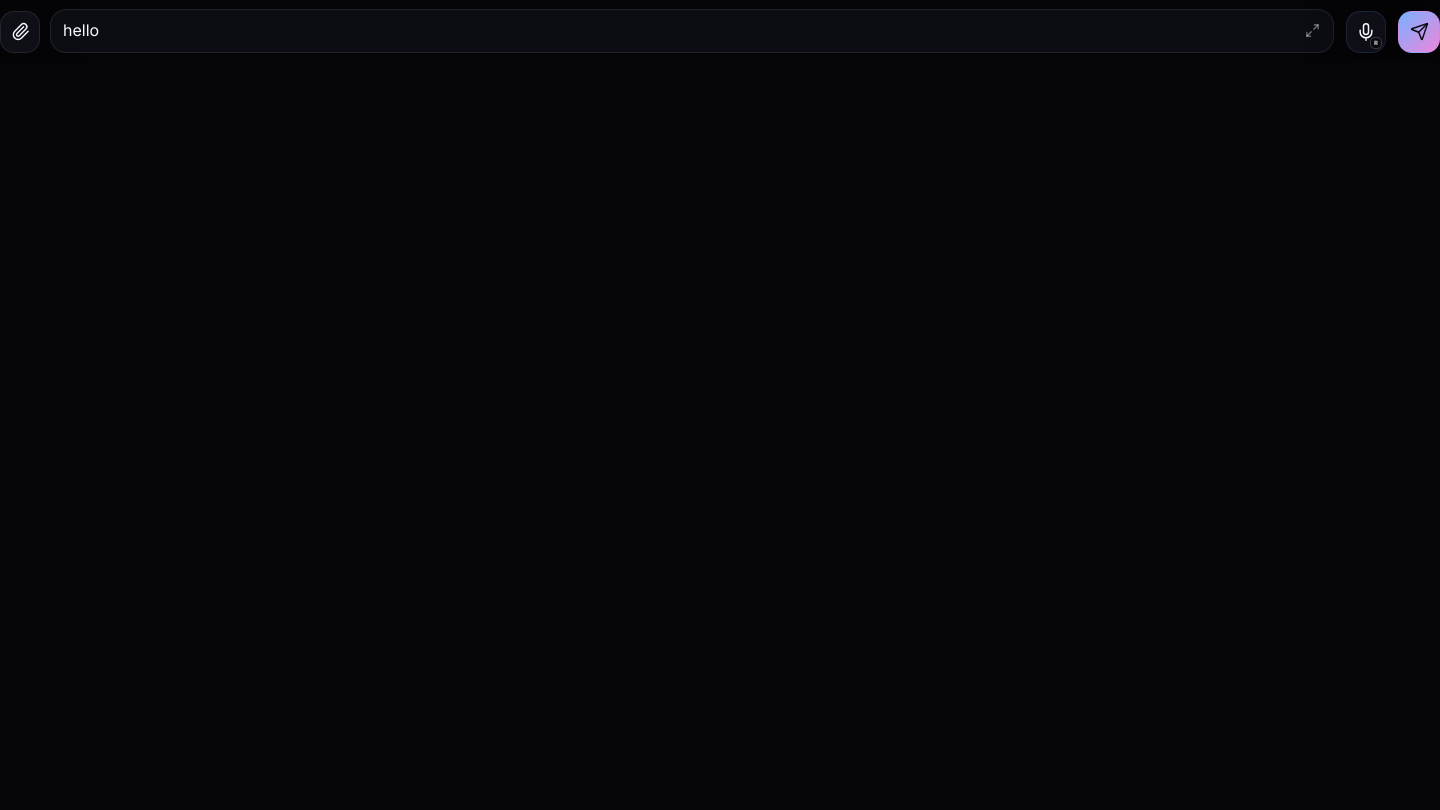
Scenario: Composer secondary tools (paperclip menu) › uses the same combined menu in the expanded composer
Click the button named "Expand message editor". click: {"x": 1312, "y": 31}
box: x1=1298 y1=17 x2=1326 y2=45
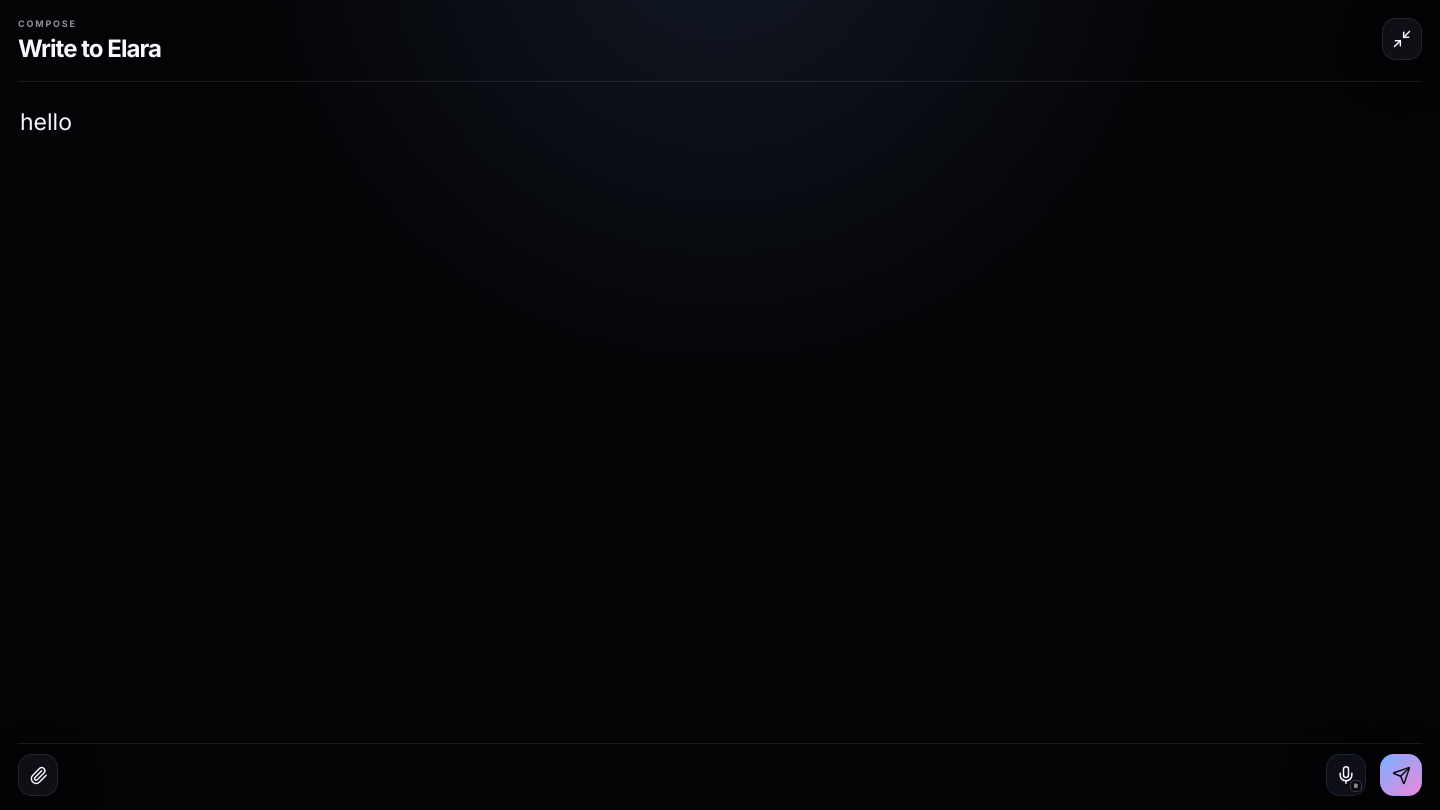
Click the button named "Composer tools". click: {"x": 38, "y": 775}
box: x1=18 y1=754 x2=58 y2=796
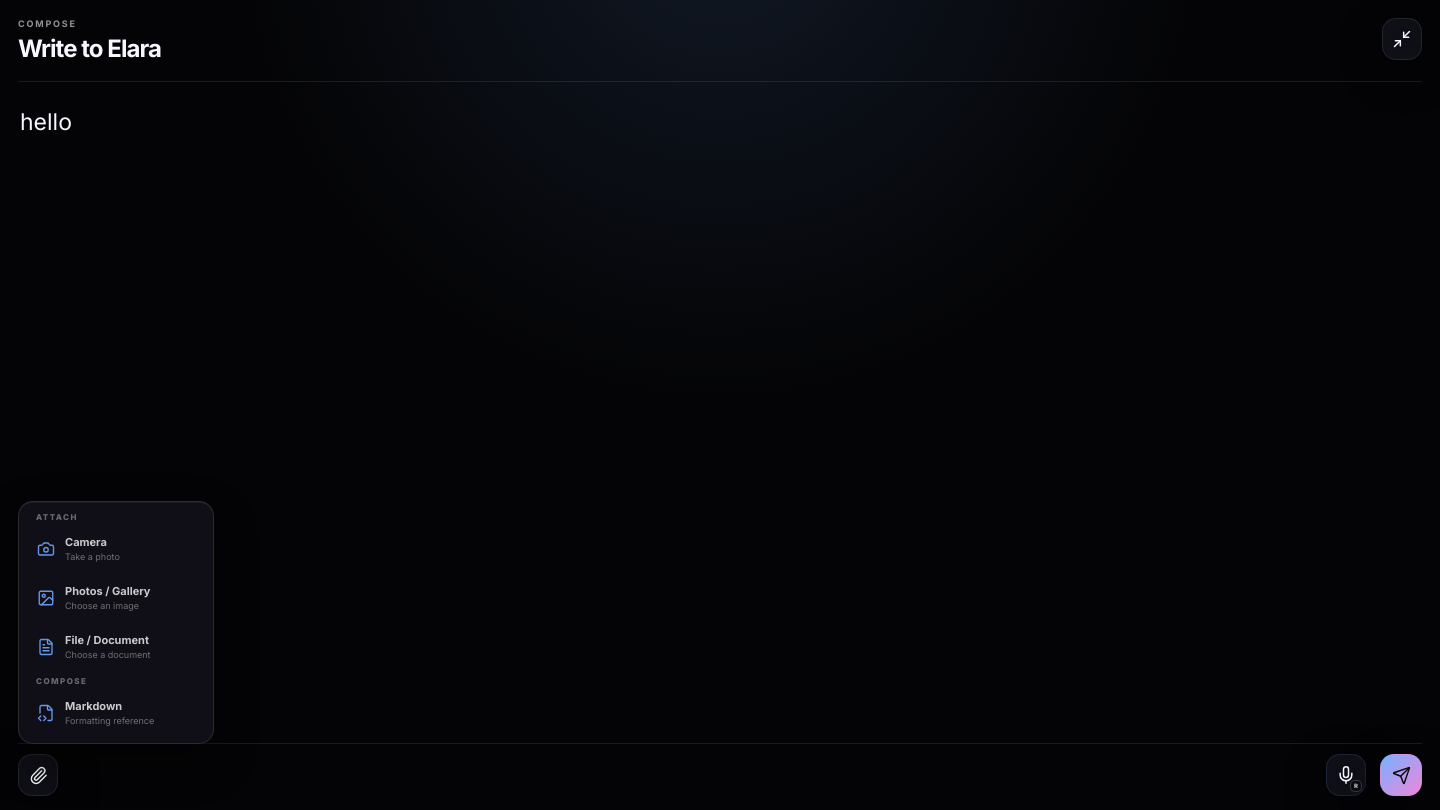
Check: the menu with class "composer__attachment-menu" is shown, box x1=18 y1=501 x2=214 y2=744
